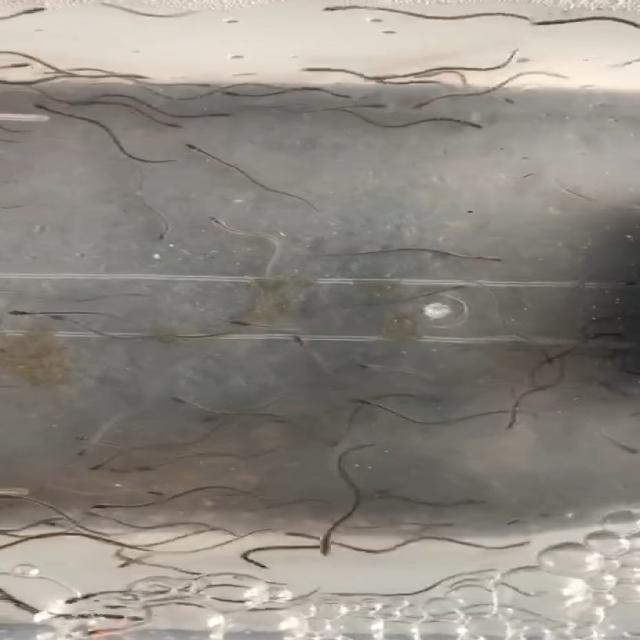active_glass_eel: (354, 66, 412, 86), (301, 0, 367, 16), (57, 590, 111, 607), (0, 3, 48, 22), (407, 91, 456, 109), (460, 245, 506, 263), (88, 452, 127, 473), (78, 623, 128, 639), (81, 501, 138, 514), (205, 212, 238, 234), (434, 279, 470, 298), (348, 395, 390, 411), (115, 550, 145, 571), (287, 532, 326, 548), (243, 555, 274, 575), (156, 394, 200, 408), (0, 52, 34, 70), (29, 517, 72, 531), (300, 63, 353, 74), (498, 416, 528, 434), (355, 360, 393, 374), (349, 100, 401, 110), (114, 68, 151, 82), (21, 102, 58, 116), (443, 117, 486, 129), (65, 443, 93, 461), (0, 304, 41, 316), (327, 433, 357, 449), (532, 18, 575, 29), (44, 312, 78, 325), (292, 333, 315, 352), (154, 117, 186, 130), (313, 539, 332, 559), (185, 142, 212, 156), (156, 224, 177, 242), (212, 86, 243, 98), (72, 434, 118, 442), (186, 111, 236, 118), (539, 353, 559, 370), (233, 318, 261, 330), (139, 487, 201, 488)
